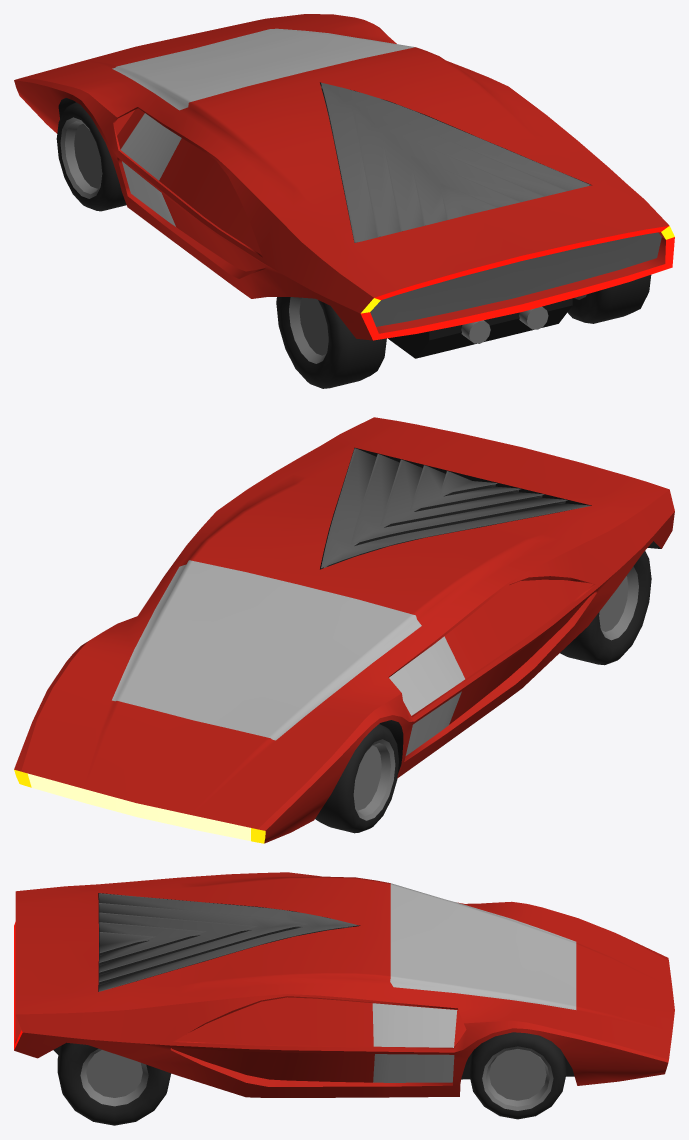
The model's file is stratos.fbx.
3 views of the same model, one above another, from view 1: azimuth 30°, elevation 25°; view 2: azimuth 150°, elevation 25°; view 3: azimuth 270°, elevation 25° (orthographic). The views are drawn at different scales.
Visible parts, largest first — view 1: body, tire_BL, tire_FL, tire_BR; view 2: body, tire_FL, tire_BL; view 3: body, tire_FR, tire_BR.
Boxes of the visible parts, x1=… form: body: x1=14, y1=14, x2=674, y2=358; tire_BL: x1=276, y1=297, x2=386, y2=388; tire_FL: x1=56, y1=102, x2=126, y2=211; tire_BR: x1=567, y1=275, x2=651, y2=323; body: x1=14, y1=417, x2=674, y2=843; tire_FL: x1=315, y1=724, x2=398, y2=833; tire_BL: x1=560, y1=551, x2=651, y2=665; body: x1=14, y1=872, x2=674, y2=1097; tire_FR: x1=469, y1=1032, x2=566, y2=1119; tire_BR: x1=57, y1=1042, x2=171, y2=1125.
Size of the model in its own units: 360 by 166 by 717.
